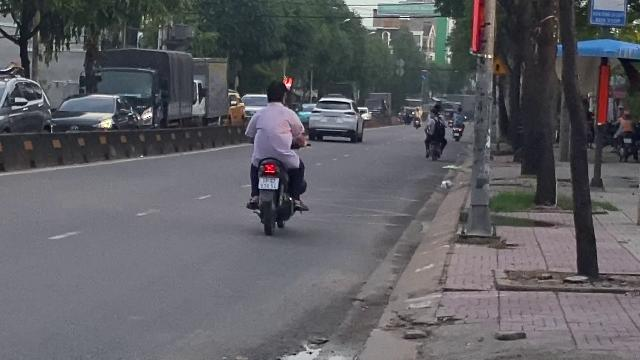licenseplate: (258, 176, 278, 190)
motorcyclist: (242, 78, 310, 234)
nohelmet: (264, 80, 286, 104)
